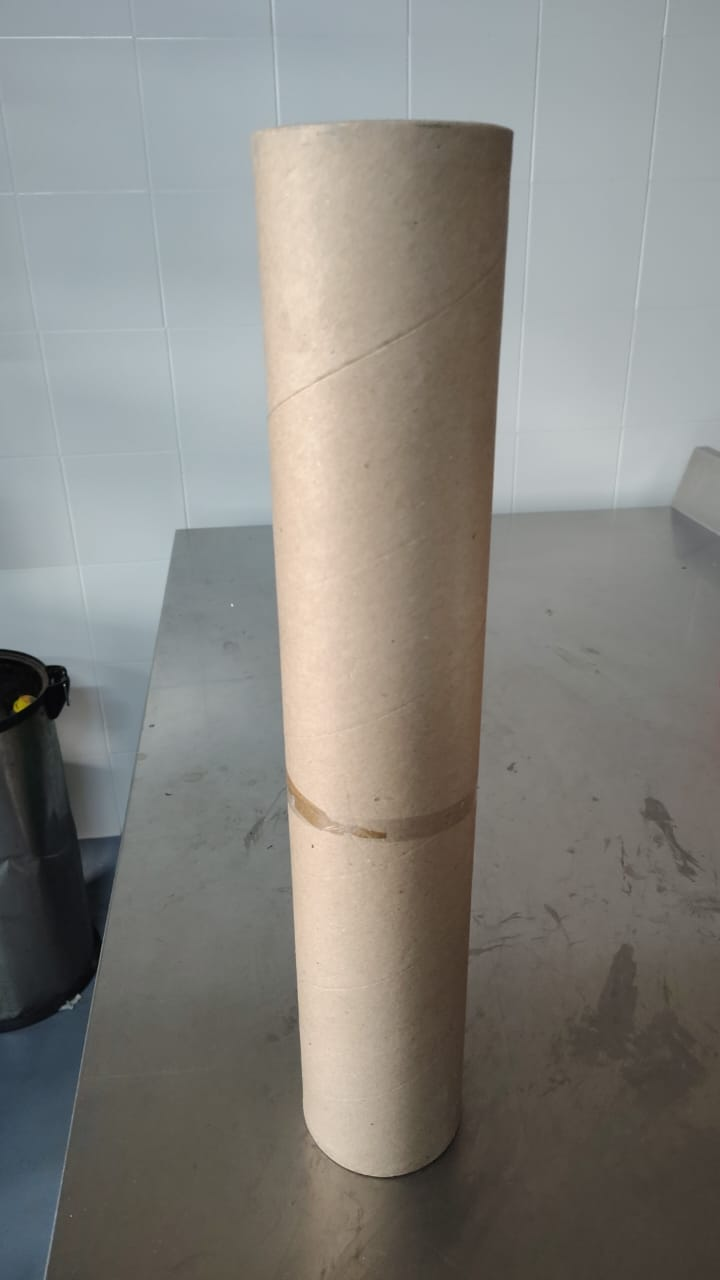Carton: (257, 120, 516, 1180)
